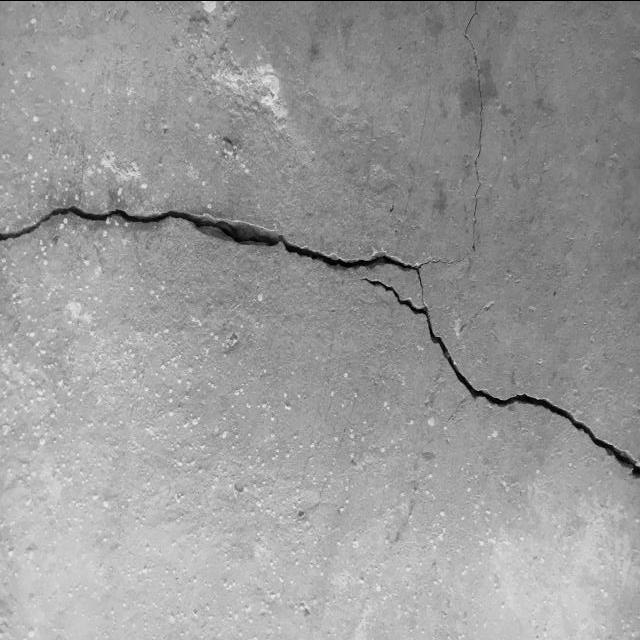SurfaceCrack: (1, 173, 620, 532)
